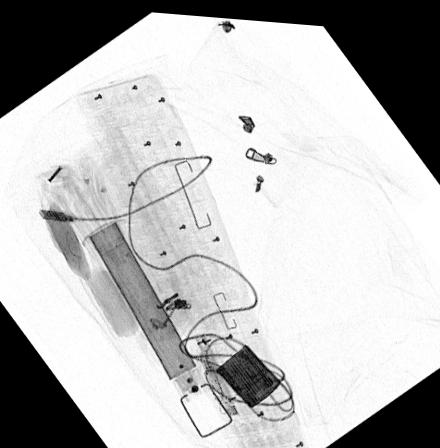Lighter: (216, 337, 280, 403)
